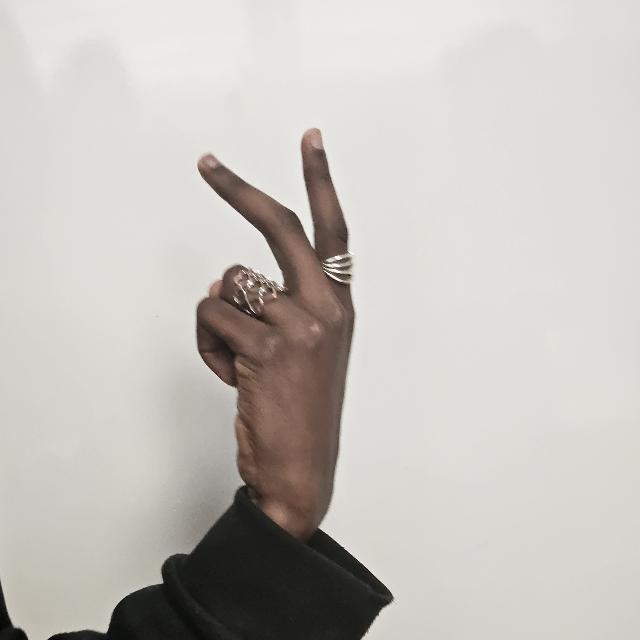Triangulo: (183, 124, 419, 530)
